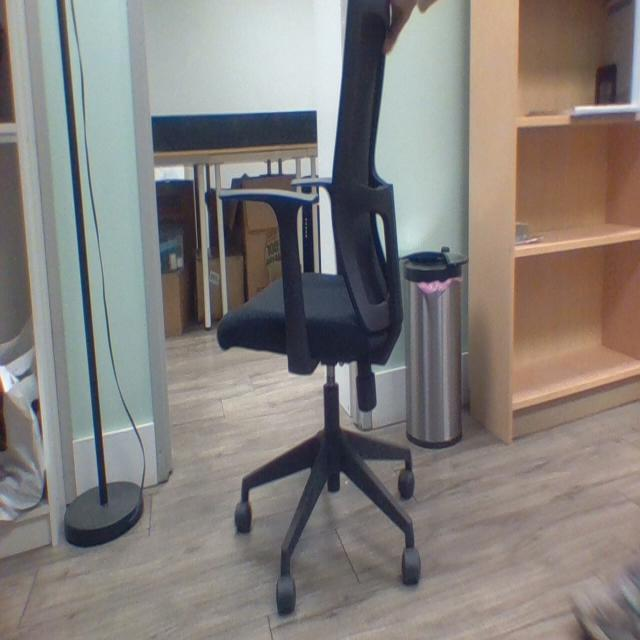chair: (212, 9, 428, 609)
